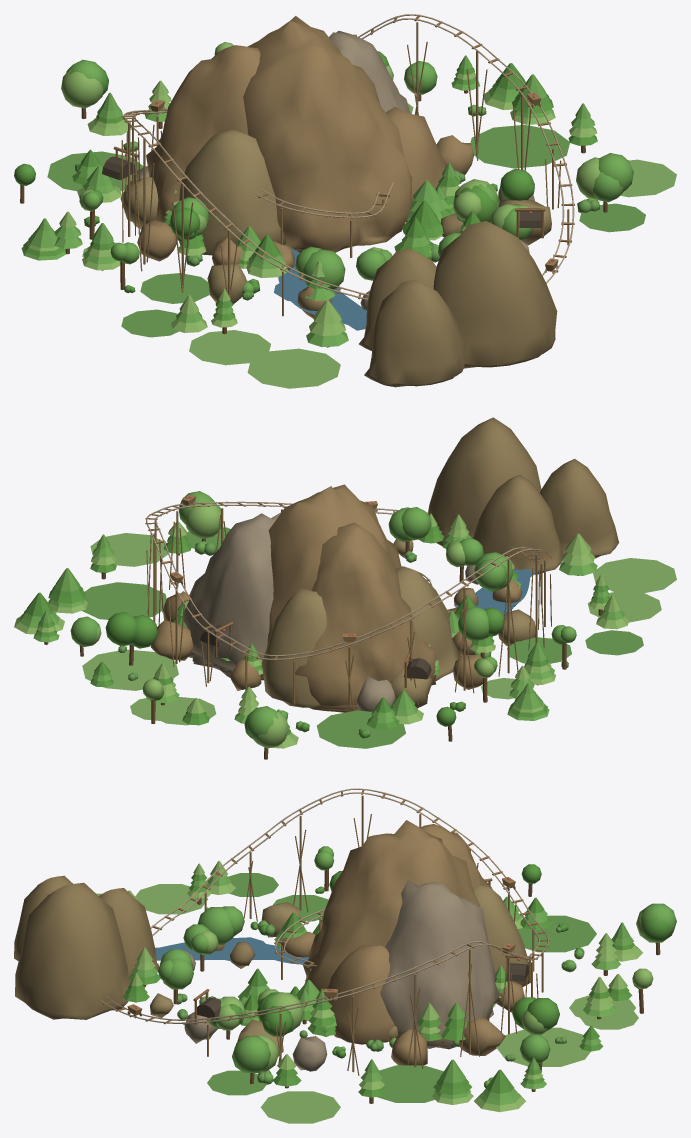
The model's file is 02_seven-dwarfs-mine-train.glb.
3 renders of one model, top to bottom at view 1: azimuth 30°, elevation 25°; view 2: azimuth 150°, elevation 25°; view 3: azimuth 270°, elevation 25°, orthographic. The views are drawn at different scales.
Parts seen in each view (by area): view 1: CentralPeak, SouthPeak, WestPeak, SouthPeak.002, WestLow, GrassPatch_4, MainRails, GrassPatch_5, EastLow, SouthPeak.001, EastPeak, GrassPatch_8 (+26 smaller); view 2: WestPeak, EastPeak, CentralPeak, SouthPeak, SouthPeak.001, NorthPeak, SouthPeak.002, WestLow, MainRails, GrassPatch_4, GrassPatch_9, GrassPatch_5 (+24 smaller); view 3: EastPeak, SouthPeak, CentralPeak, EastLow, MainRails, SouthPeak.001, NorthPeak, GrassPatch_2, GrassPatch_4, GrassPatch_9, GrassPatch_11, GrassPatch_8 (+25 smaller).
Part boxes in pixels (<box>): CentralPeak: <box>243,16,412,252</box>; SouthPeak: <box>433,221,557,368</box>; WestPeak: <box>146,45,260,226</box>; SouthPeak.002: <box>364,279,465,387</box>; WestLow: <box>177,129,286,255</box>; GrassPatch_4: <box>470,124,569,168</box>; MainRails: <box>123,14,574,300</box>; GrassPatch_5: <box>247,348,340,388</box>; EastLow: <box>386,107,445,222</box>; SouthPeak.001: <box>359,248,436,350</box>; EastPeak: <box>329,31,410,113</box>; GrassPatch_8: <box>189,330,270,365</box>; WestPeak: <box>295,522,436,712</box>; EastPeak: <box>182,512,281,677</box>; CentralPeak: <box>261,484,401,680</box>; SouthPeak: <box>428,417,541,546</box>; SouthPeak.001: <box>473,474,563,574</box>; NorthPeak: <box>261,588,326,707</box>; SouthPeak.002: <box>539,458,619,558</box>; WestLow: <box>396,566,461,681</box>; MainRails: <box>146,501,551,660</box>; GrassPatch_4: <box>82,582,166,619</box>; GrassPatch_9: <box>82,649,178,690</box>; GrassPatch_5: <box>593,558,676,592</box>; EastPeak: <box>380,880,499,1049</box>; SouthPeak: <box>15,882,129,1019</box>; CentralPeak: <box>303,820,489,991</box>; EastLow: <box>327,945,394,1044</box>; MainRails: <box>100,788,548,1023</box>; SouthPeak.001: <box>99,888,158,984</box>; NorthPeak: <box>473,883,528,986</box>; GrassPatch_2: <box>260,1091,340,1123</box>; GrassPatch_4: <box>376,1065,443,1102</box>; GrassPatch_9: <box>496,1027,590,1066</box>; GrassPatch_11: <box>517,915,596,952</box>; GrassPatch_8: <box>135,884,207,914</box>.
Bounding box in the file's own units: 59.79 × 21.17 × 66.85.
